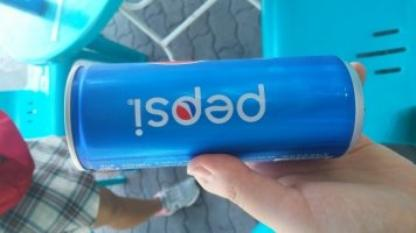Can: (64, 59, 366, 173)
